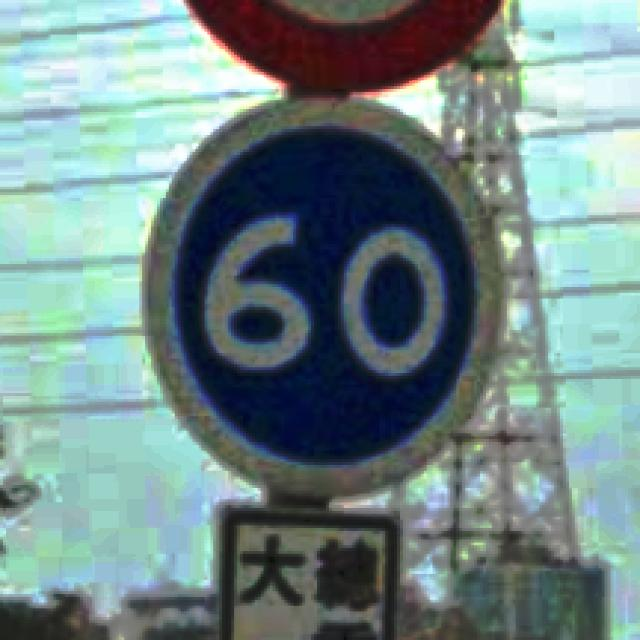min60: (136, 92, 507, 496)
